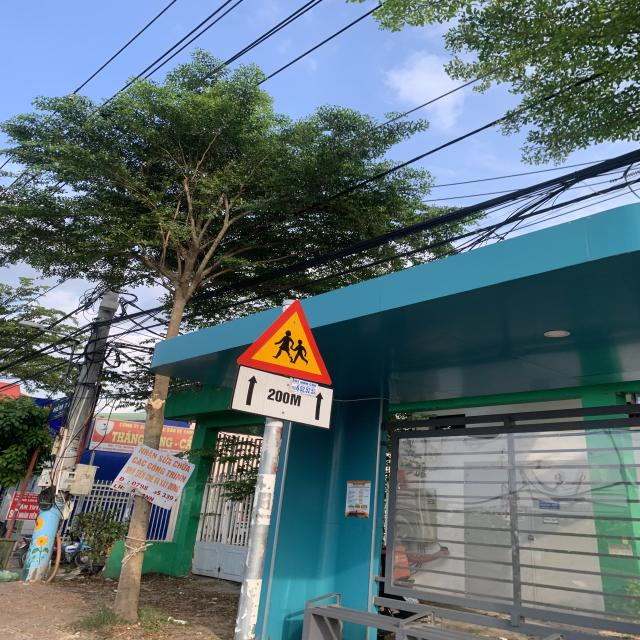Vong_Xuyen: (234, 298, 333, 386)
